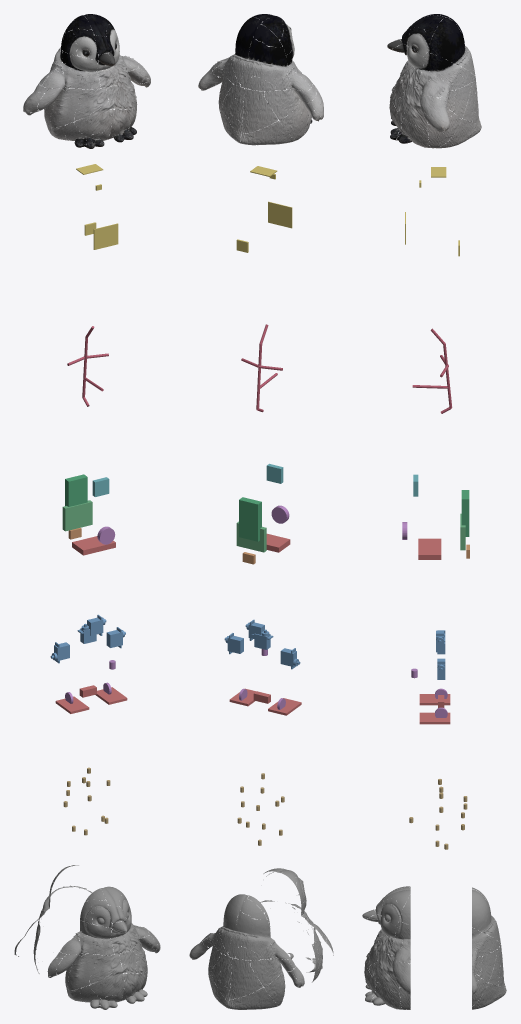
The model's file is layer-stack.glb.
3 renders of one model, left to right at view 1: azimuth 30°, elevation 25°; view 2: azimuth 150°, elevation 25°; view 3: azimuth 270°, elevation 25°, orthographic.
Parts seen in each view (by area): view 1: geometry_0; view 2: geometry_0; view 3: geometry_0.
Part boxes in pixels (<box>): geometry_0: <box>14,14,160,1009</box>; geometry_0: <box>189,14,333,1009</box>; geometry_0: <box>362,14,506,1009</box>.
Bounding box in the file's own units: 0.2282 × 1.69 × 0.226.
